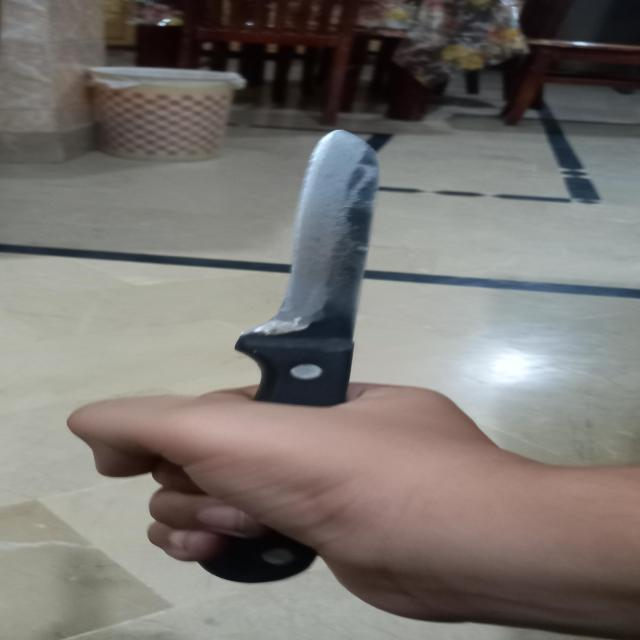Knife: (187, 129, 385, 583)
Person: (70, 379, 640, 640)
